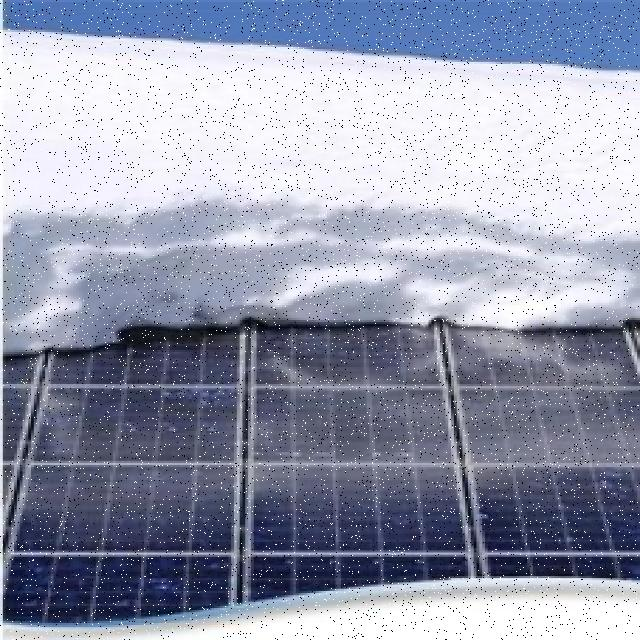snow covered: (11, 278, 635, 615)
